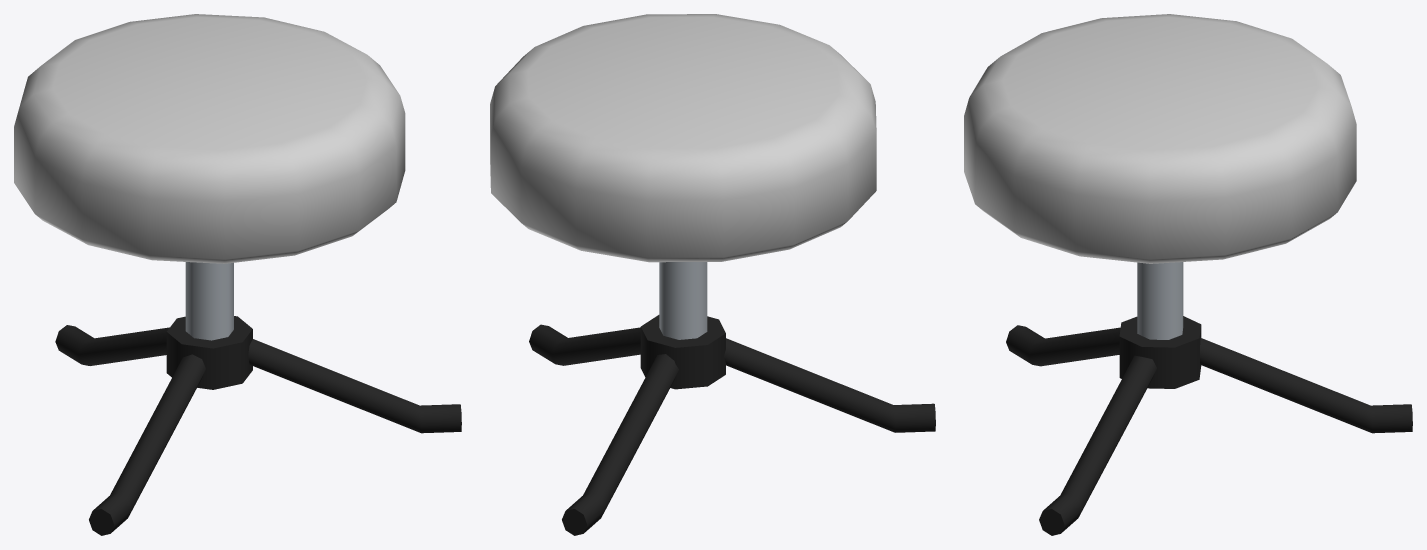
Rendered from Stoll-1.fbx.
The picture shows the model from 3 angles, left to right: view 1: azimuth 30°, elevation 25°; view 2: azimuth 150°, elevation 25°; view 3: azimuth 270°, elevation 25°; orthographic projection.
Parts seen in each view (by area): view 1: Stoll-1; view 2: Stoll-1; view 3: Stoll-1.
Part boxes in pixels (x1,y1,x2,y2): Stoll-1: (14, 14, 461, 535); Stoll-1: (490, 14, 935, 535); Stoll-1: (964, 14, 1412, 535).
Size of the model in its own units: 0.5 by 0.4378 by 0.5001.
